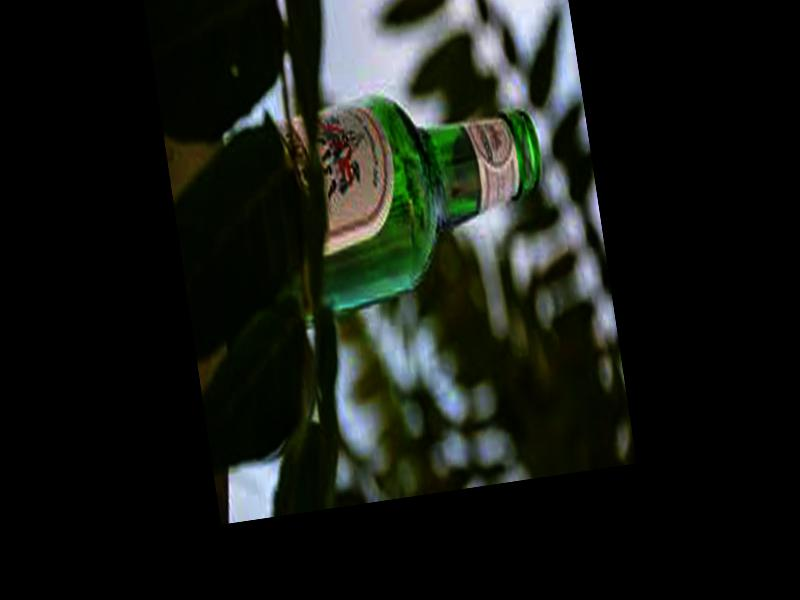Beer: (269, 76, 557, 314)
